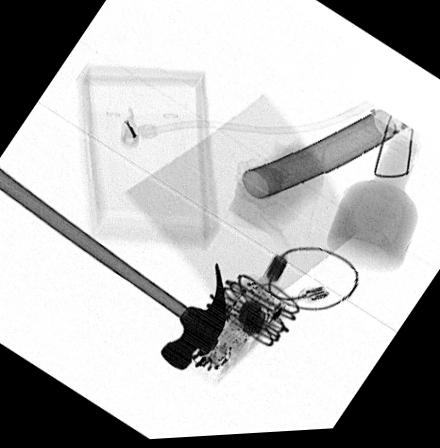Hammer: (0, 167, 226, 372)
